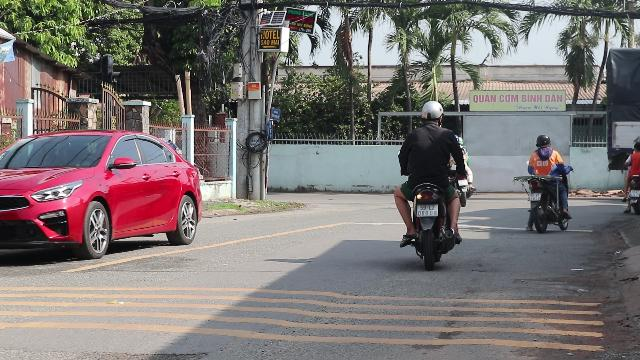helmet: (418, 100, 444, 126), (534, 133, 550, 149)
licenseplate: (417, 204, 438, 216), (528, 194, 540, 200)
motorcyclist: (389, 99, 466, 267), (522, 132, 572, 231)
